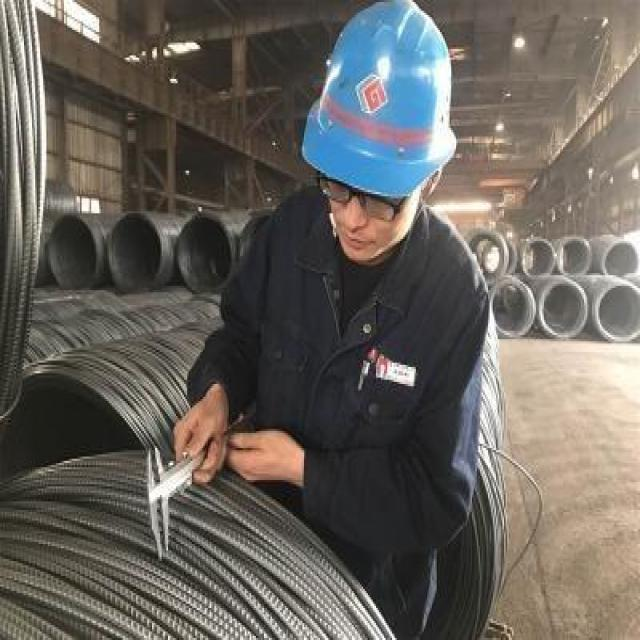hat: (297, 0, 464, 262)
